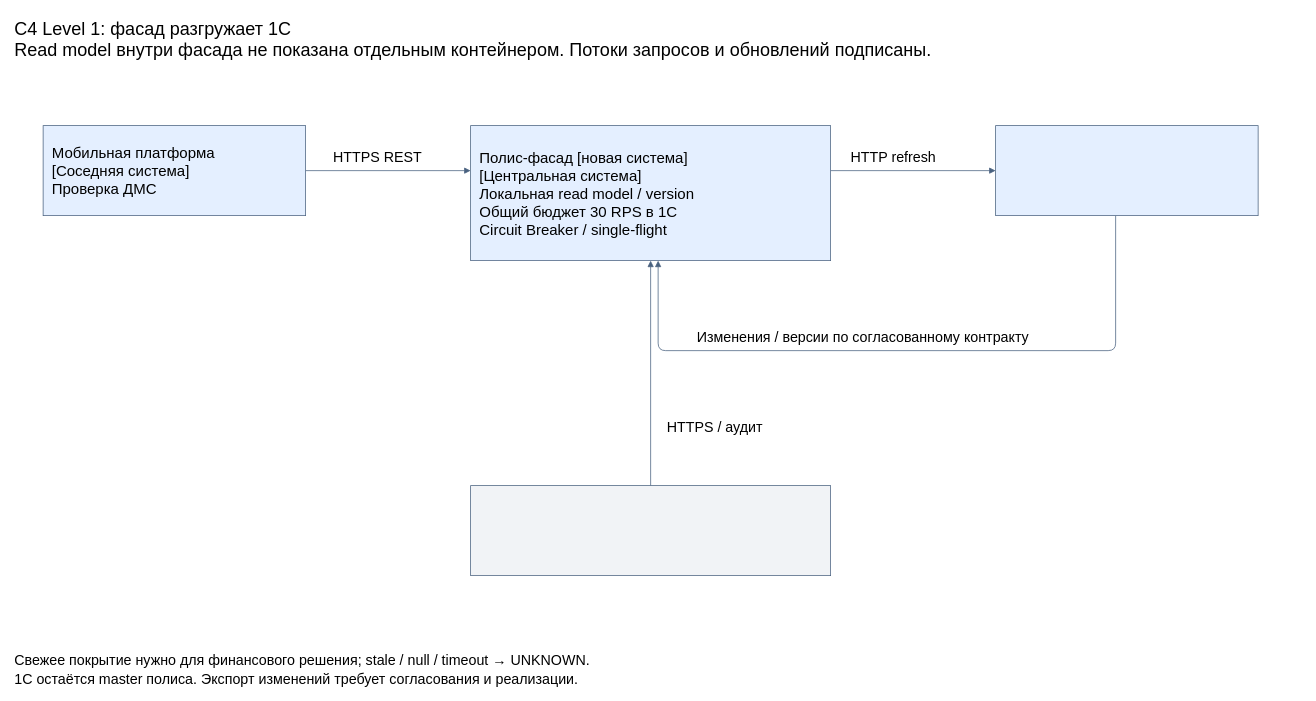
This 1316x701 diagram has some shape labels left out. The centre of each missing label's shape, as x and y in pixels:
"1С: Полисы [существ.] [Соседняя система] Источник истины" goes at point 1126,170.
"Оператор ДМС [человек] Ручная проверка UNKNOWN Контролируемое обновление" goes at point 650,530.
